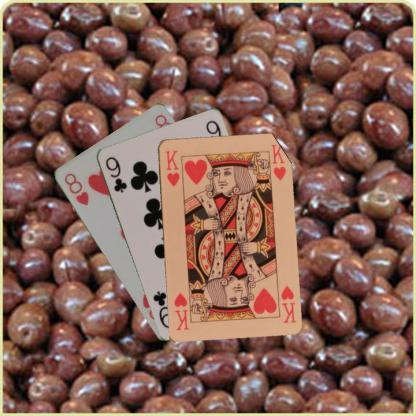8h: (61, 170, 90, 207)
9c: (102, 154, 128, 194)
Kh: (278, 282, 297, 324), (163, 148, 181, 188)
